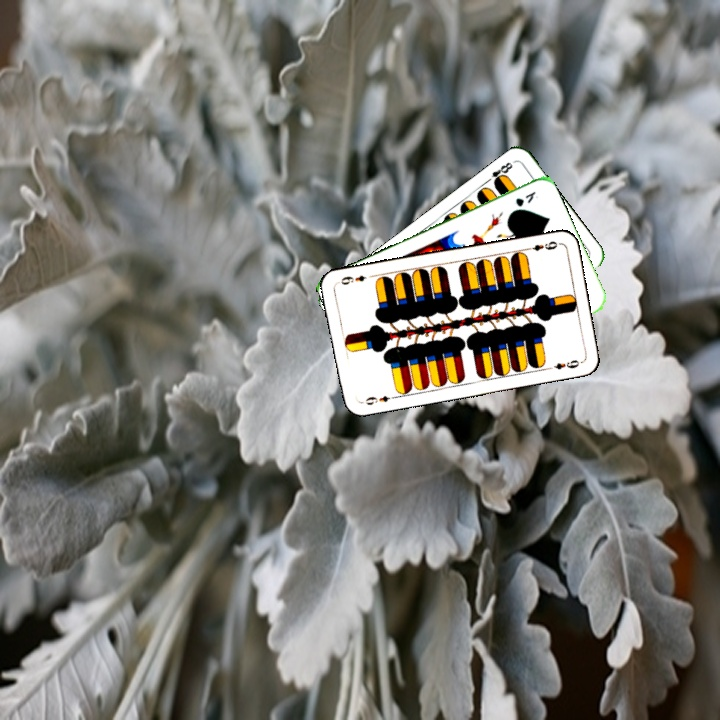E8: (482, 158, 515, 188)
E9: (521, 237, 561, 254), (357, 392, 397, 407)
GK: (511, 187, 538, 209)
